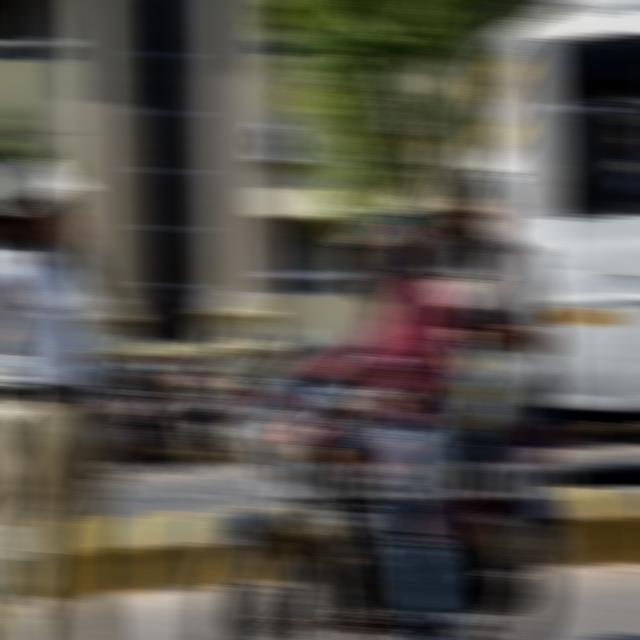With Helmet: (337, 201, 436, 305)
Without Helmet: (448, 167, 509, 255)
